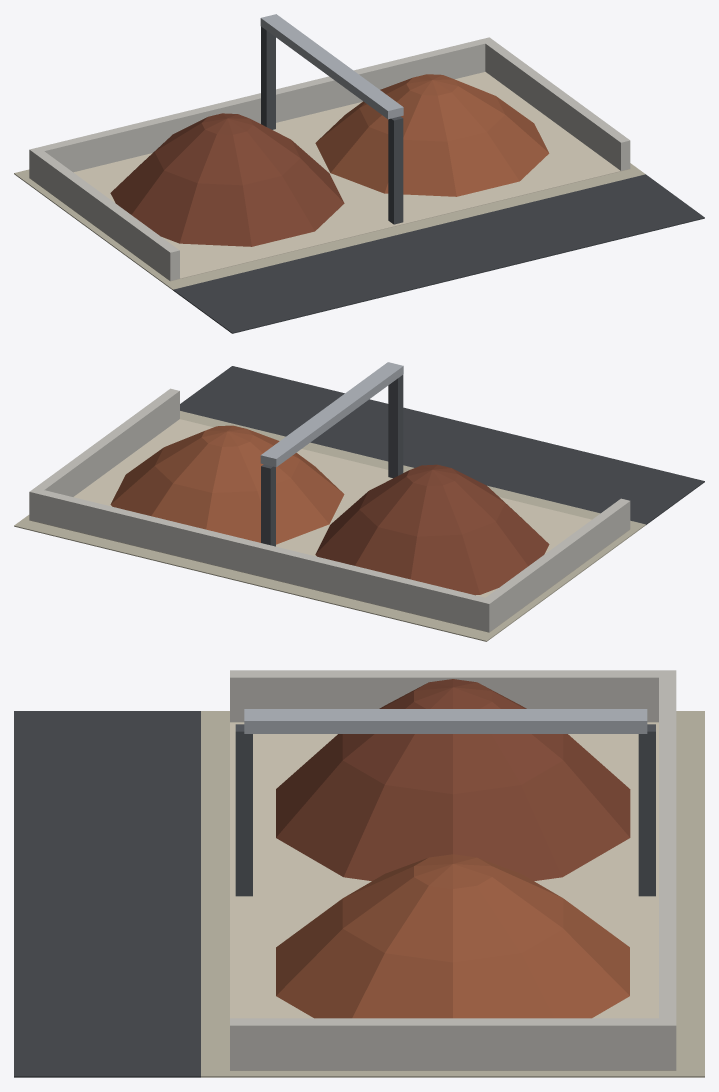
The model's file is site_heap_ore.glb.
The picture shows the model from 3 angles, top to bottom: view 1: azimuth 30°, elevation 25°; view 2: azimuth 150°, elevation 25°; view 3: azimuth 270°, elevation 25°; orthographic projection. The views are drawn at different scales.
Visible parts, largest first — view 1: site_heap_ore; view 2: site_heap_ore; view 3: site_heap_ore.
Boxes of the visible parts, bbox=[...] form: site_heap_ore: bbox=[14, 14, 704, 333]; site_heap_ore: bbox=[14, 362, 704, 641]; site_heap_ore: bbox=[14, 670, 704, 1077].
Size of the model in its own units: 30 by 6.9 by 24.
